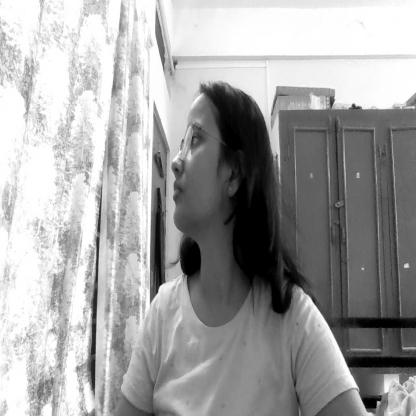Distracted: (173, 99, 253, 252)
